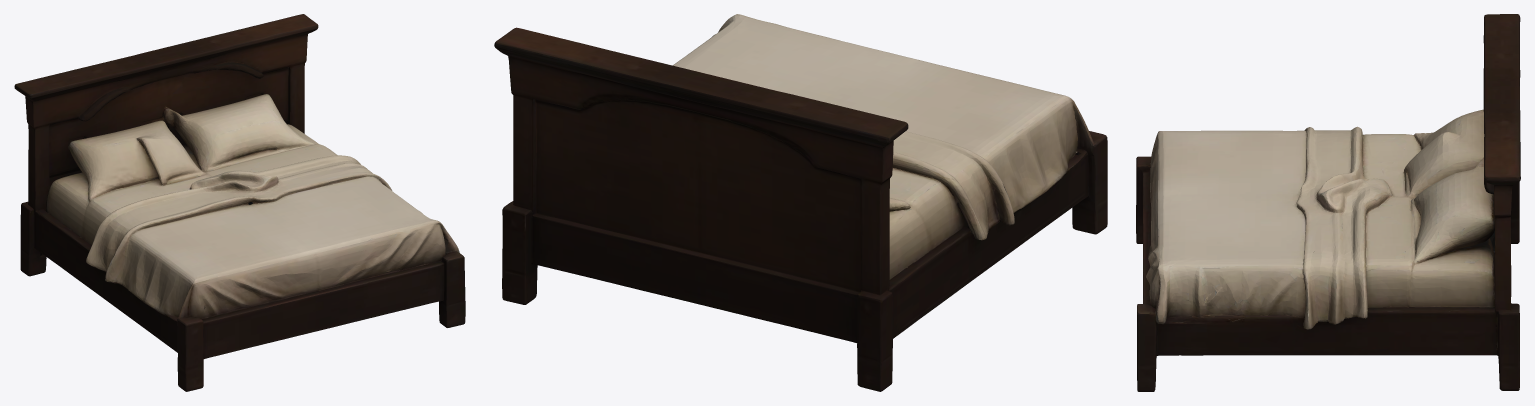
Rendered from bed.glb.
3 views of the same model, side by side, from view 1: azimuth 30°, elevation 25°; view 2: azimuth 150°, elevation 25°; view 3: azimuth 270°, elevation 25° (orthographic). The views are drawn at different scales.
Parts seen in each view (by area): view 1: geometry_0; view 2: geometry_0; view 3: geometry_0.
Boxes of the visible parts, bbox=[...] form: geometry_0: bbox=[14, 14, 465, 391]; geometry_0: bbox=[494, 14, 1107, 391]; geometry_0: bbox=[1136, 14, 1520, 391].
Bounding box in the file's own units: 0.9998 × 0.6211 × 0.9923.
Materials: 1 (1 with a texture image).
